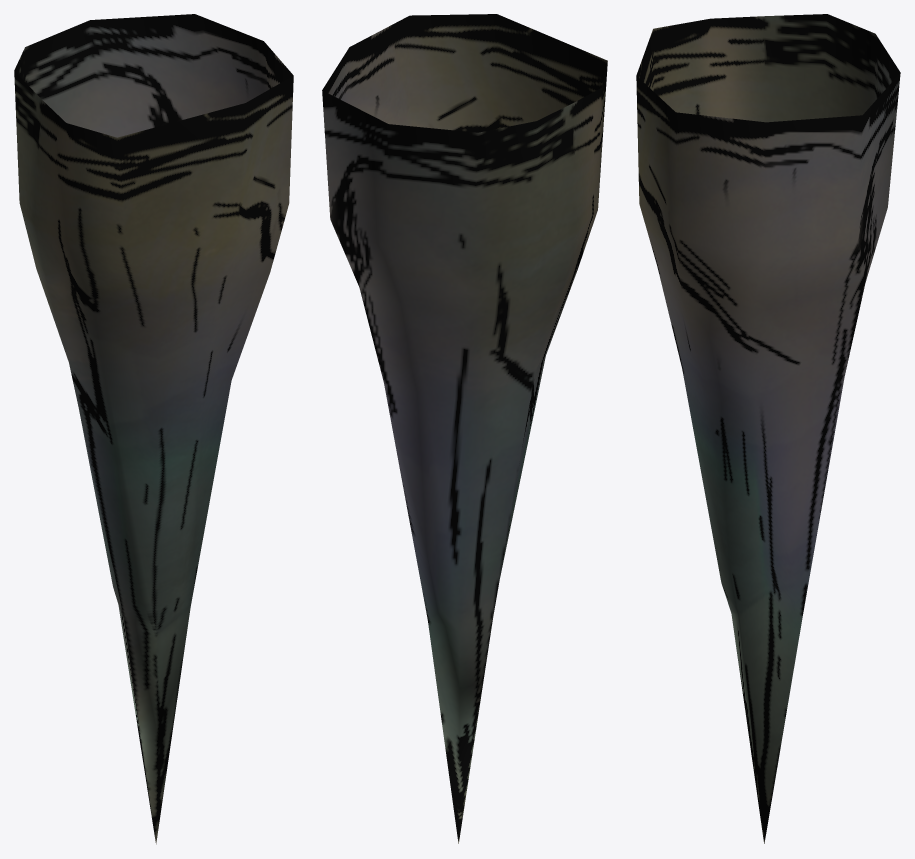
The model's file is Stalagmite_01.fbx.
The picture shows the model from 3 angles, left to right: view 1: azimuth 30°, elevation 25°; view 2: azimuth 150°, elevation 25°; view 3: azimuth 270°, elevation 25°; orthographic projection.
Visible parts, largest first — view 1: Rock01:Stalagtite:Mesh; view 2: Rock01:Stalagtite:Mesh; view 3: Rock01:Stalagtite:Mesh.
Part boxes in pixels (x1,y1,x2,y2): Rock01:Stalagtite:Mesh: (14, 14, 293, 844); Rock01:Stalagtite:Mesh: (322, 14, 607, 843); Rock01:Stalagtite:Mesh: (636, 14, 900, 843).
Size of the model in its own units: 1.85 by 5.81 by 1.78.
